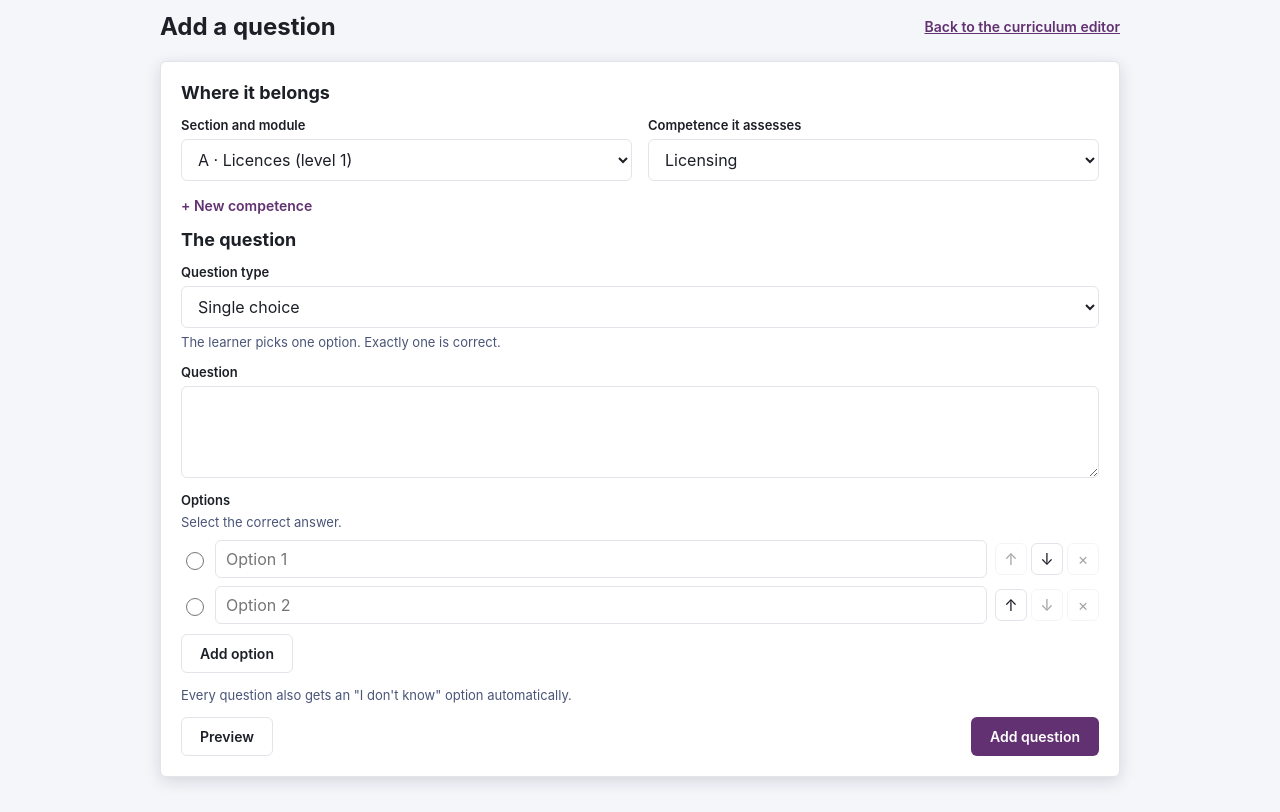
Test case: QuestionEditorPage: a new question › shows a general error when the save fails for another reason
Expected: the heading "Add a question" is shown, x1=160 y1=12 x2=336 y2=41
Step 1. Type "Which?" into the text box labelled "Question" → (640, 432), box x1=181 y1=386 x2=1099 y2=478
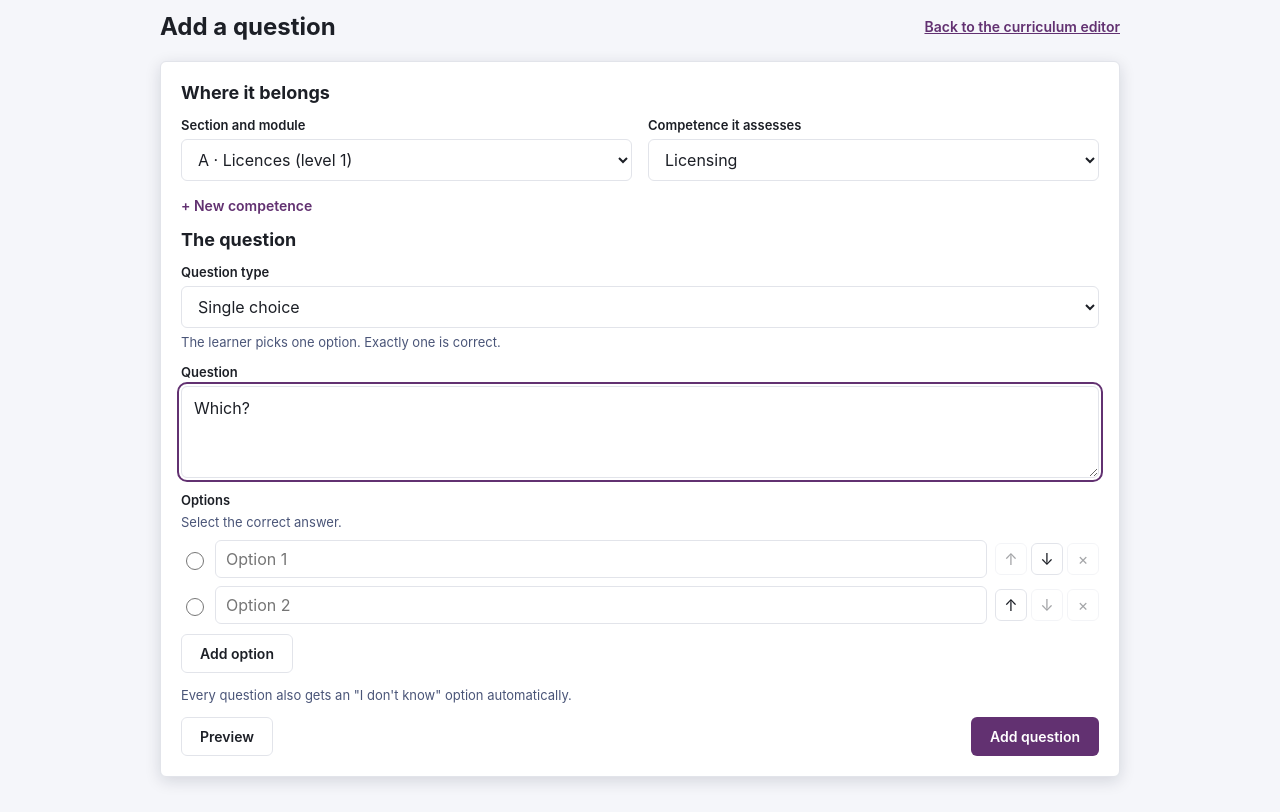
Step 2. Click the button "Add question" → (1035, 736), box x1=971 y1=717 x2=1099 y2=756
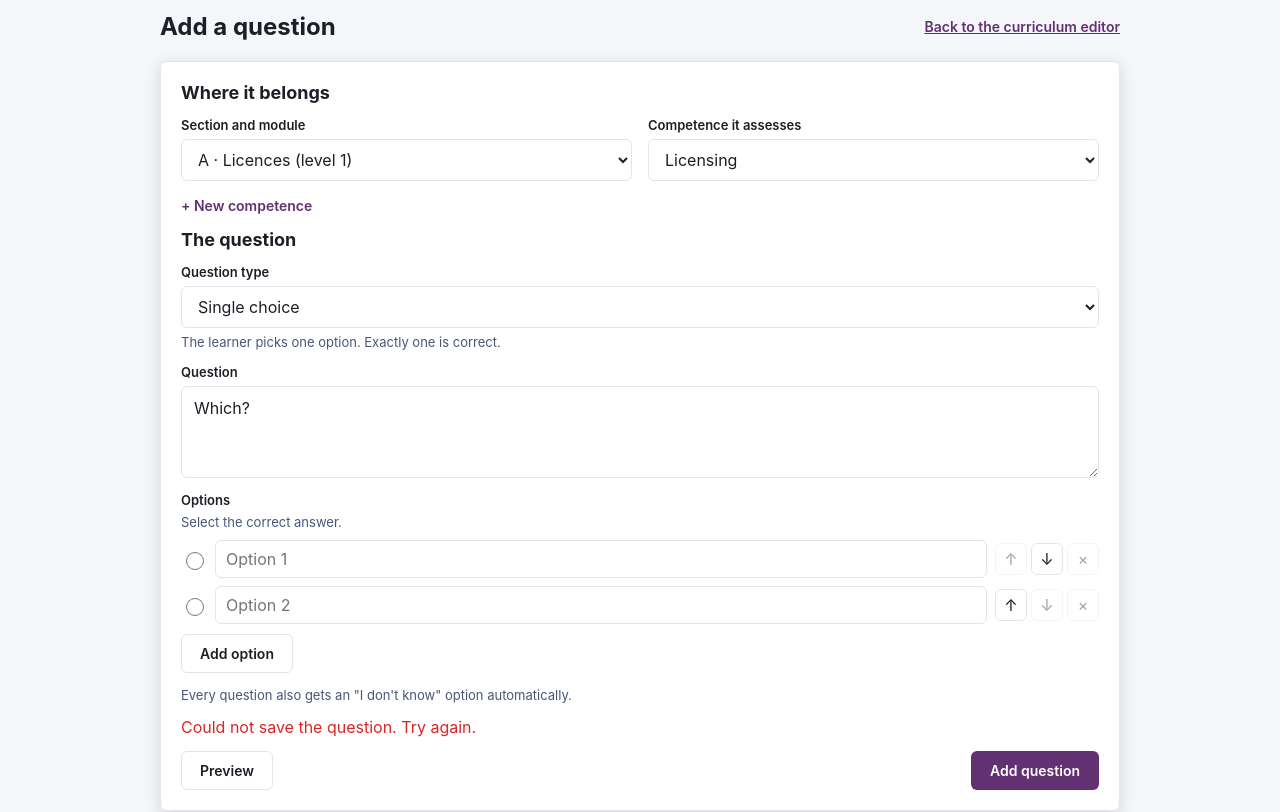
Now the message shows "Could not save the question", box x1=181 y1=717 x2=476 y2=737
